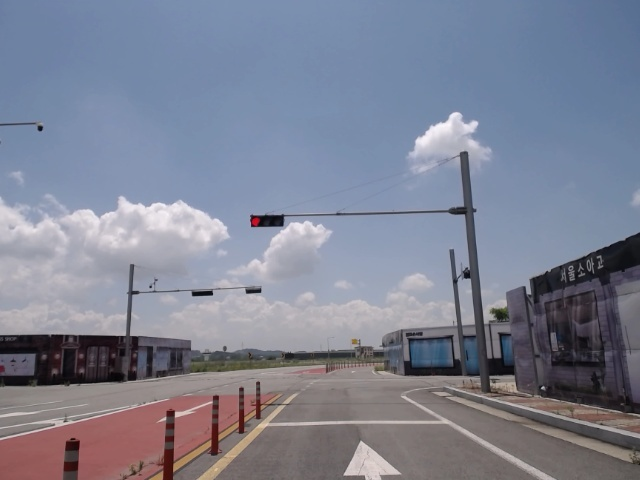red_3: (249, 214, 285, 229)
